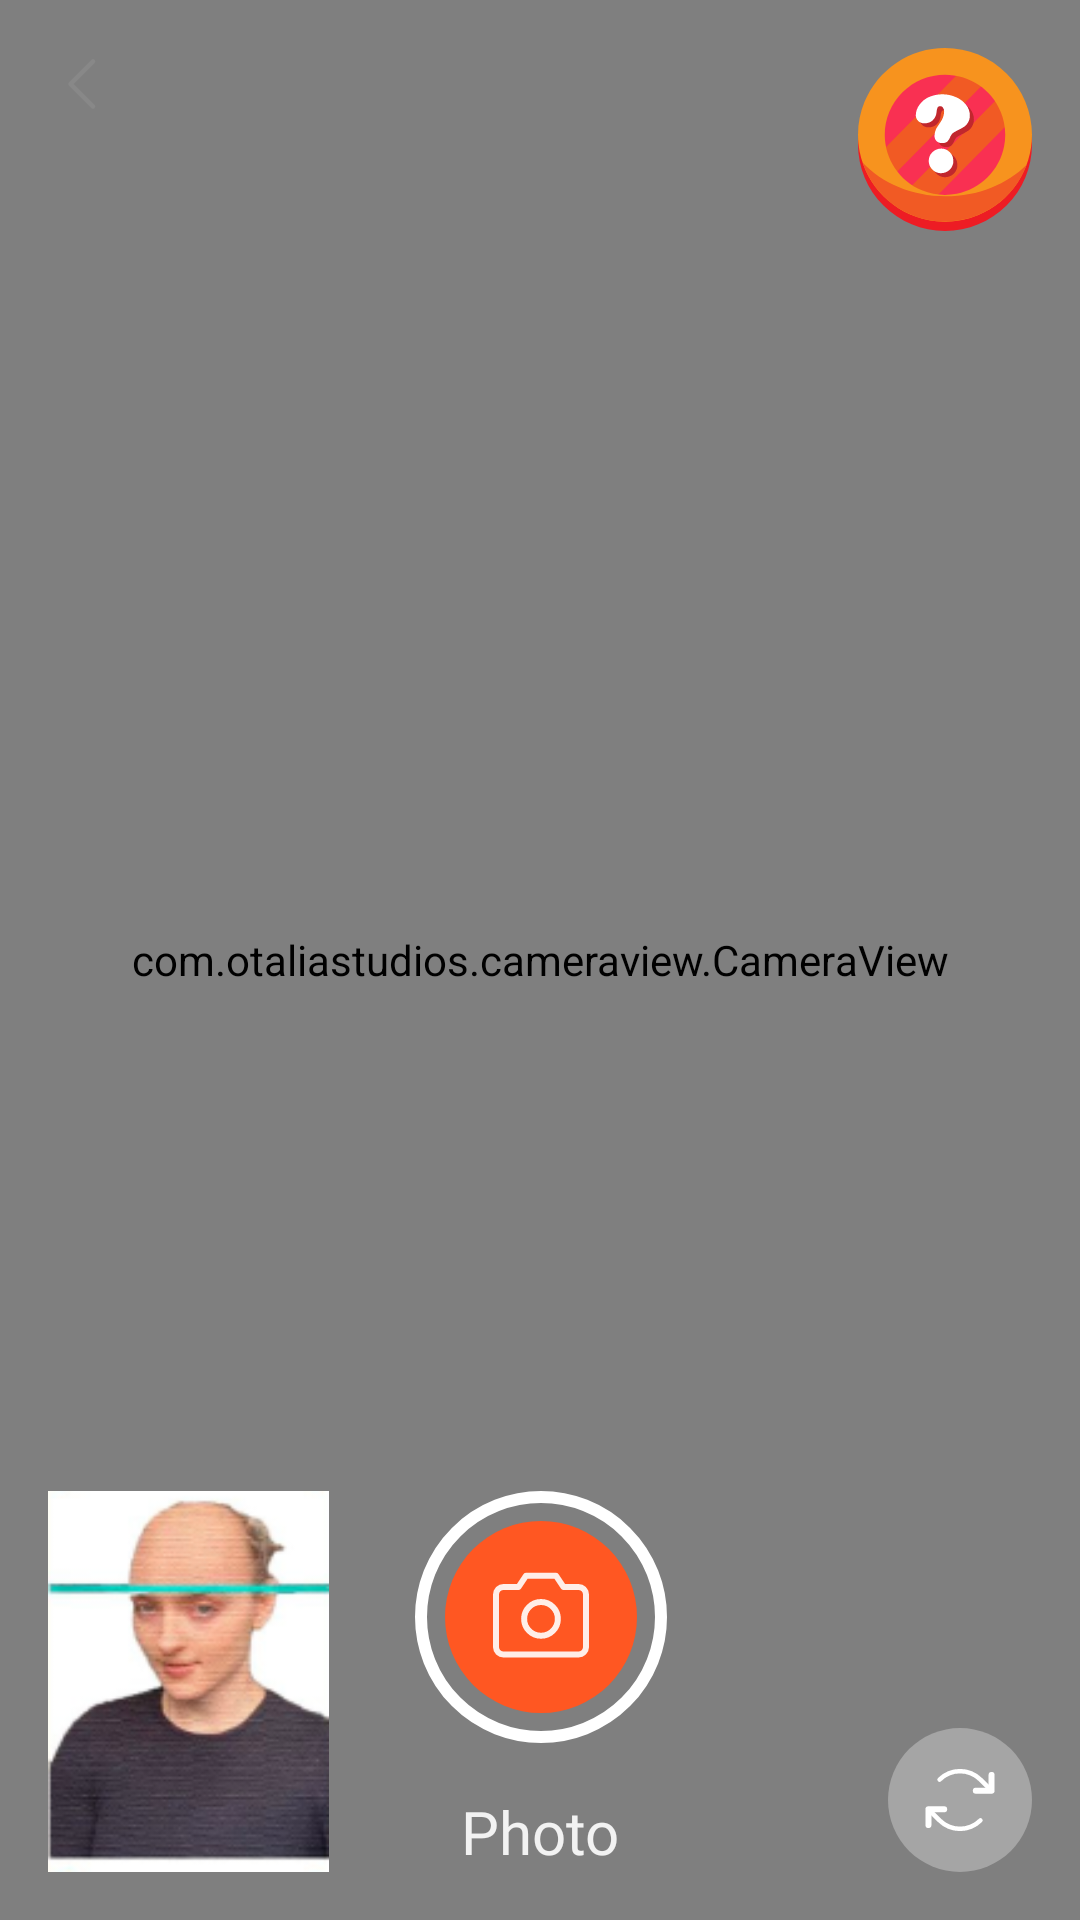

Screen size 1080 × 1920. Icon name, then its box in pixels as region(x1, y1, x2, y2):
change camera: region(888, 1728, 1032, 1872)
level help: region(858, 48, 1032, 231)
